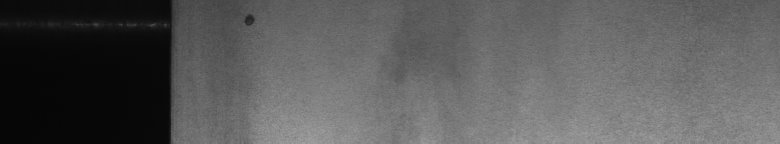fi: (240, 8, 264, 32)
